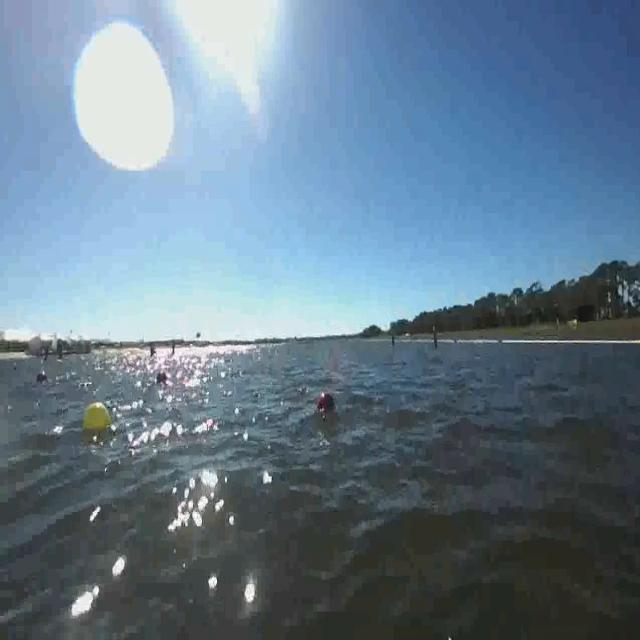red-buoy: (314, 393, 336, 418)
yellow-buoy: (84, 400, 115, 435)
